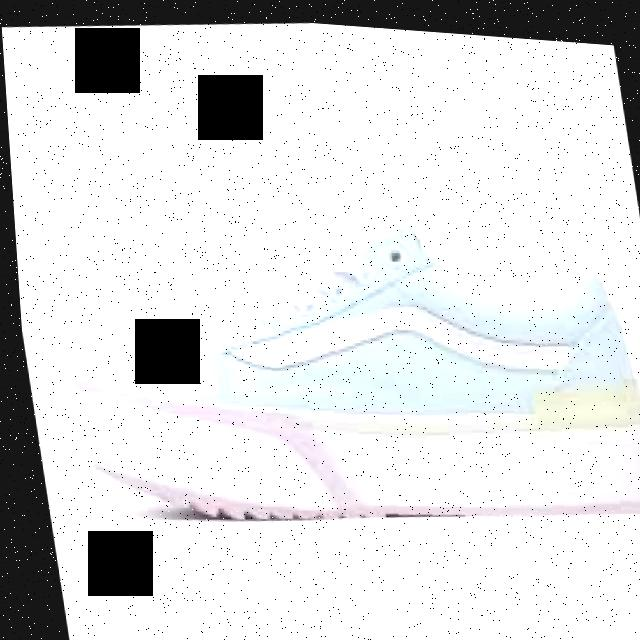shoe: (19, 161, 640, 555)
